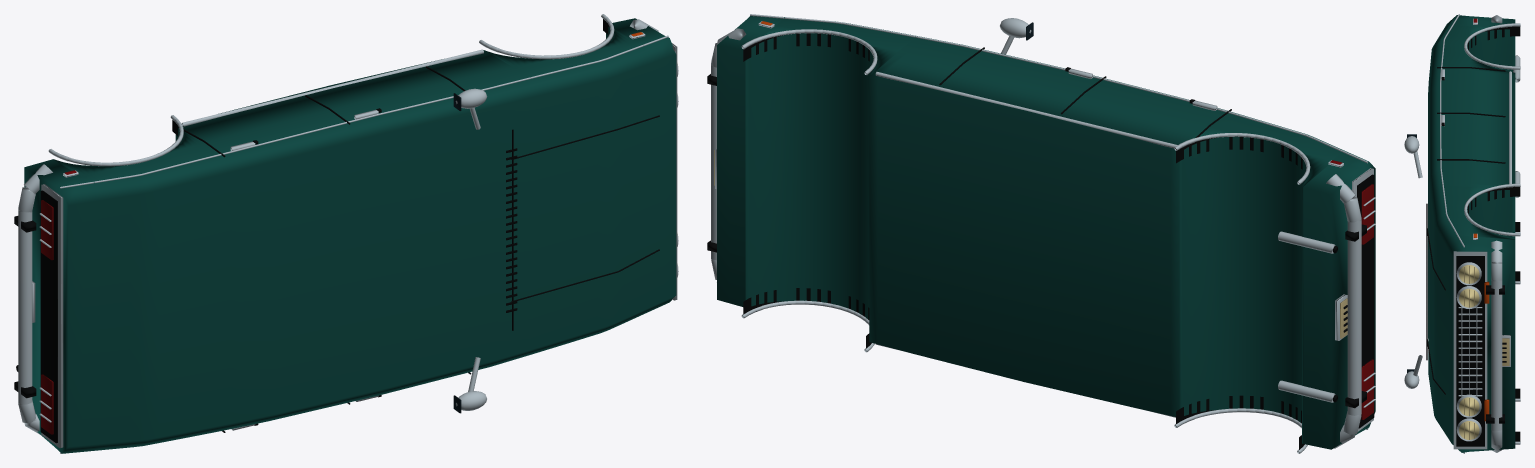
File: Car70Body2.obj
3 views of the same model, side by side, from view 1: azimuth 30°, elevation 25°; view 2: azimuth 150°, elevation 25°; view 3: azimuth 270°, elevation 25° (orthographic). The views are drawn at different scales.
Parts seen in each view (by area): view 1: Car70Body2; view 2: Car70Body2; view 3: Car70Body2.
Boxes of the visible parts, left/top/right/bottom form: Car70Body2: left=14, top=14, right=678, bottom=453; Car70Body2: left=707, top=14, right=1375, bottom=453; Car70Body2: left=1404, top=14, right=1520, bottom=453.
Bounding box in the file's own units: 466 × 220 × 93.09.
